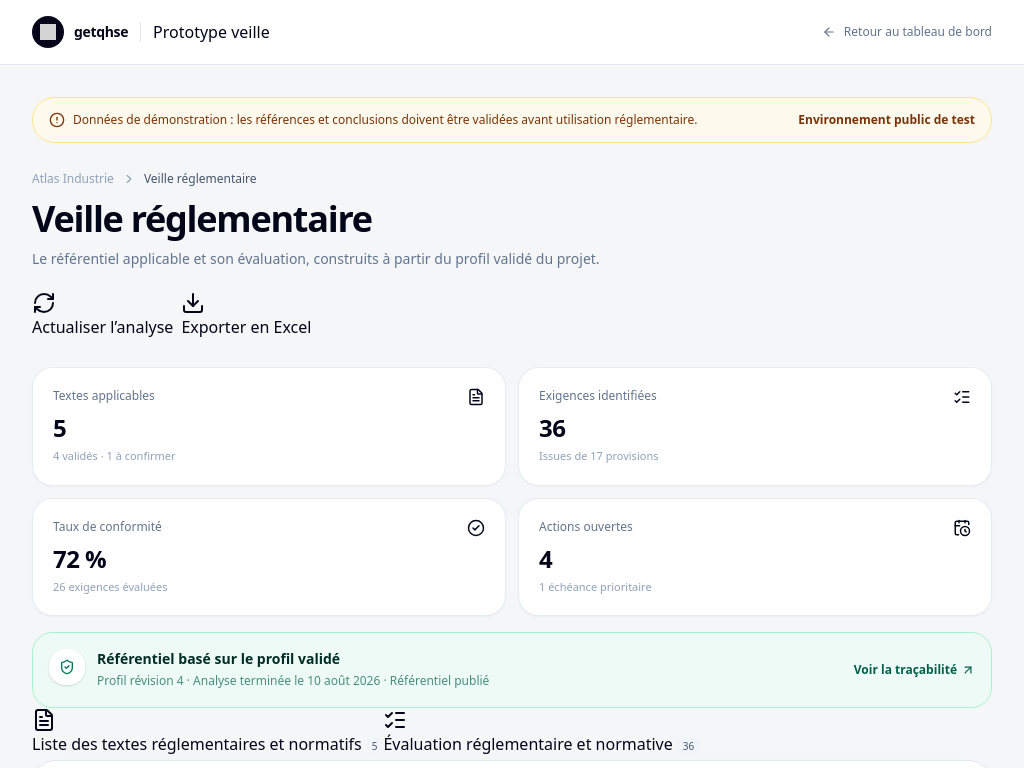
it: RegulatoryWatchTestPage › provides visible feedback for prototype analysis and export actions
Click the button "Actualiser l’analyse": point(103, 315) [32,291,173,339]
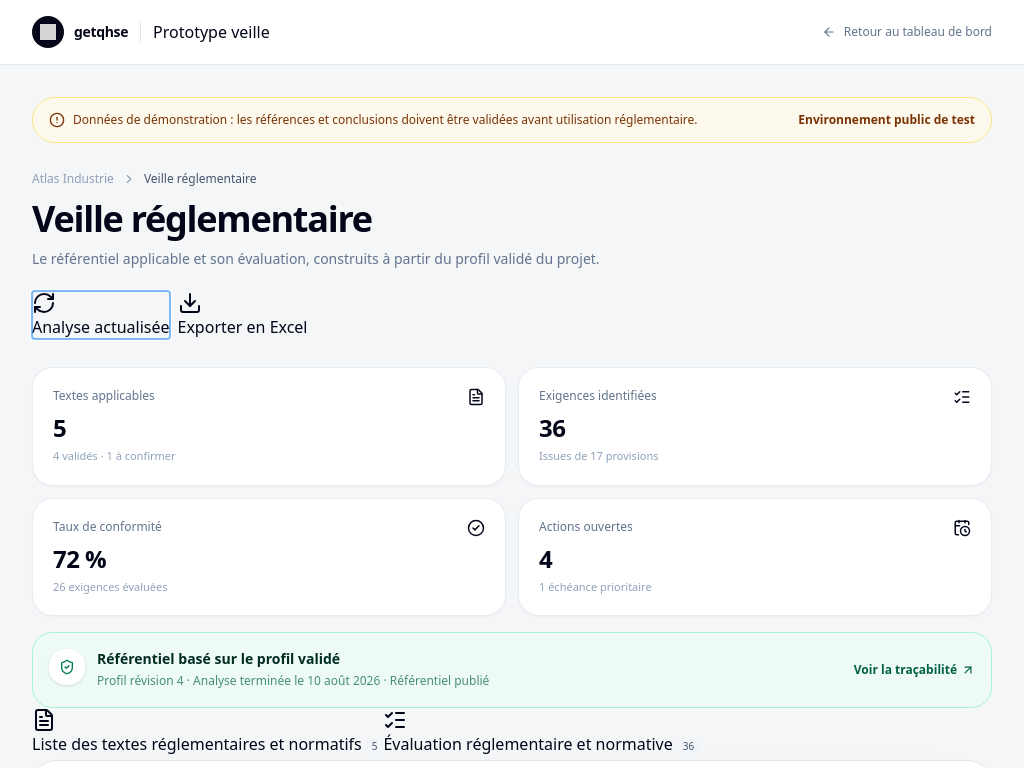
Expected: the button "Analyse actualisée" is shown, [32,291,170,339]
Click the button "Exporter en Excel": point(242, 315) [178,291,308,339]
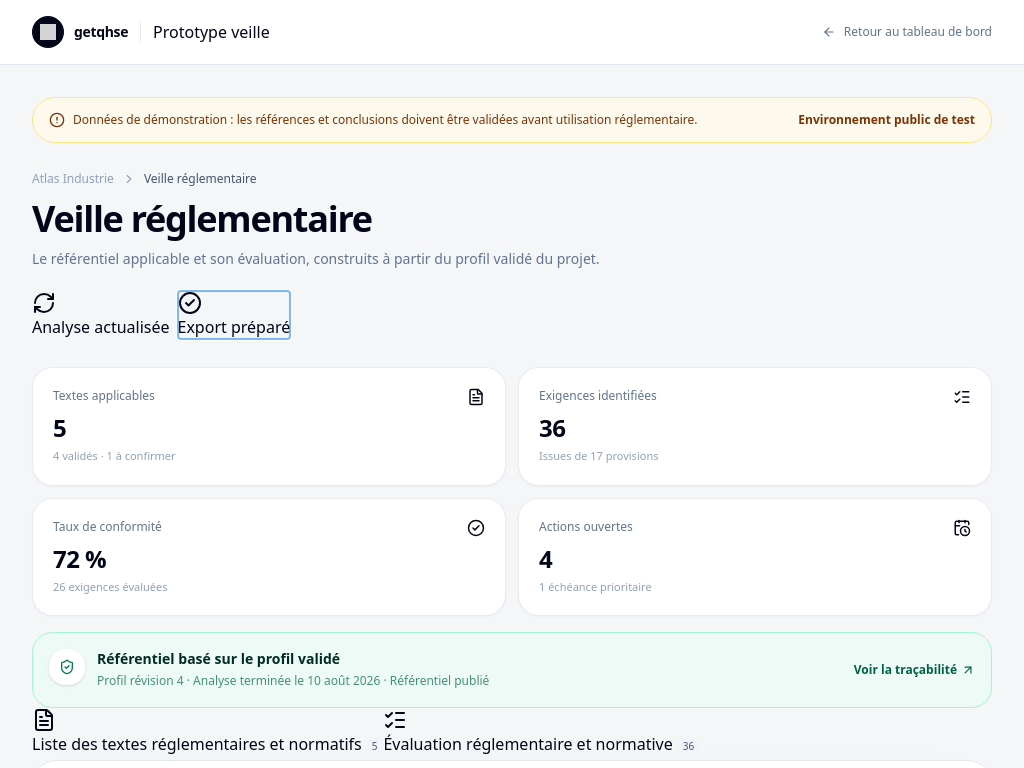
Expected: the button "Export préparé" is shown, [178,291,290,339]
